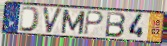4: (127, 13, 147, 41)
B: (104, 11, 127, 39)
D: (18, 6, 41, 34)
M: (60, 9, 87, 36)
P: (83, 9, 105, 36)
V: (42, 6, 64, 35)
